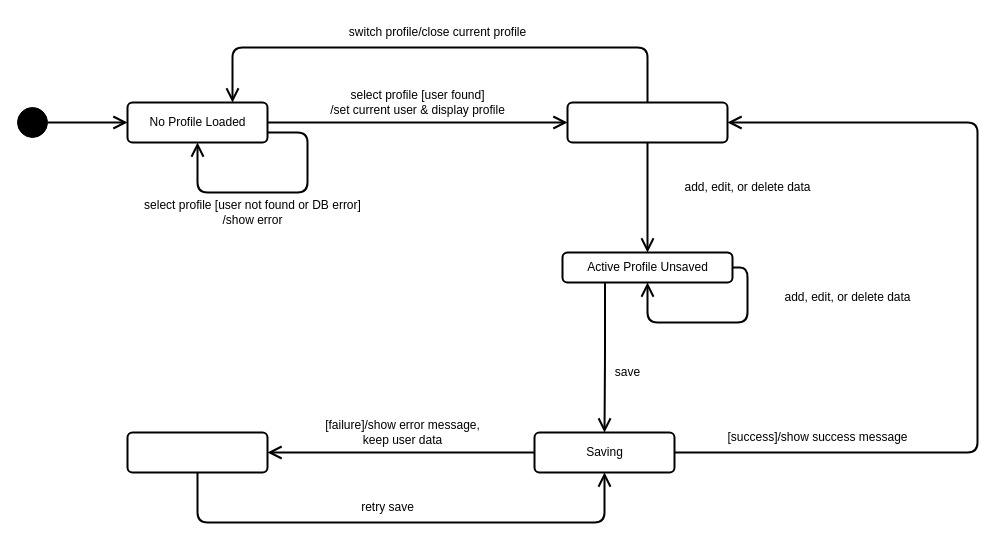
Image size: 1008x552. Some labels were removed from this diagram. Each missing label, with the centre of its shape:
"Active Profile Saved" goes at pixel 647 122.
"Save Failed" goes at pixel 197 452.
